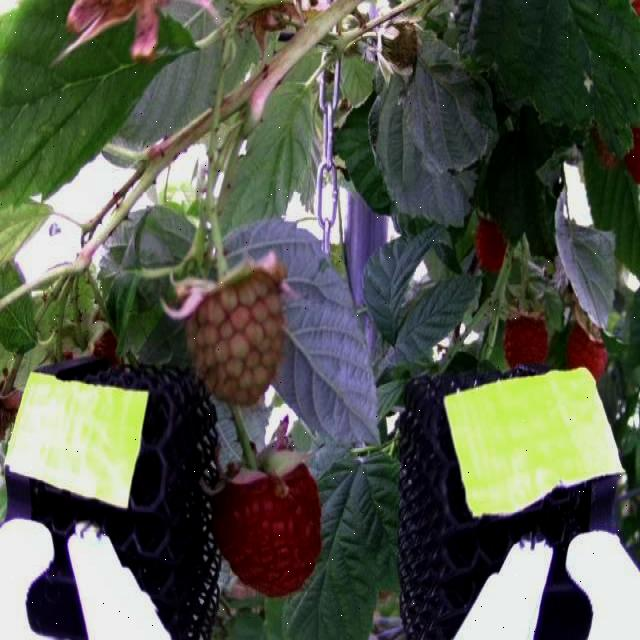Riped berries: (216, 448, 323, 594), (504, 309, 551, 364), (566, 317, 613, 370), (474, 211, 509, 268), (624, 125, 640, 187)
